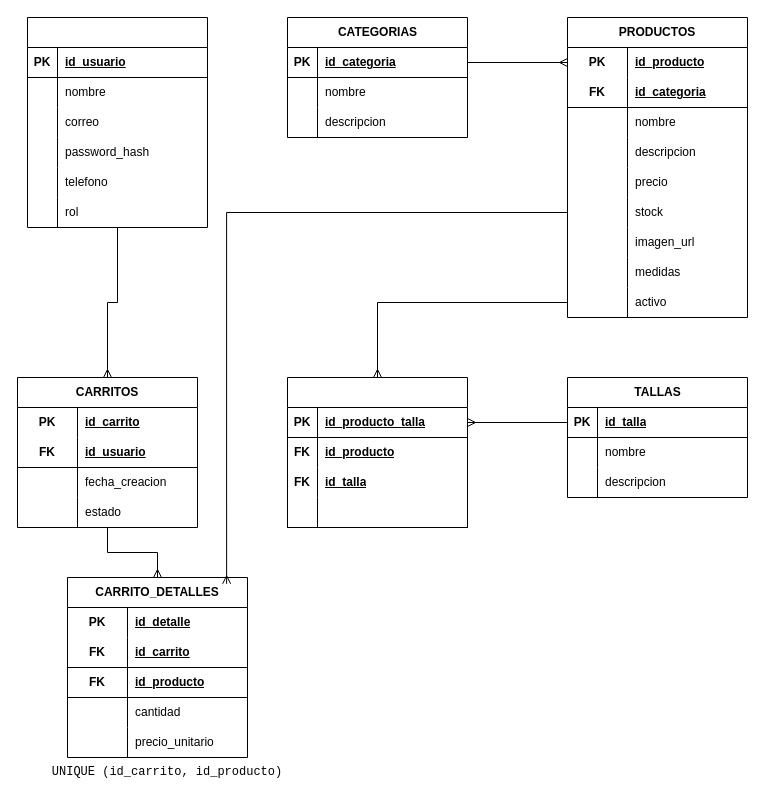
Image size: 765x809. Some labels were removed from this diagram. Here are the shapes that lost their labels. From the top down, the box of each, then its label:
(26, 16, 208, 228): USUARIOS
(286, 376, 468, 528): PRODUCTOS_TALLAS
